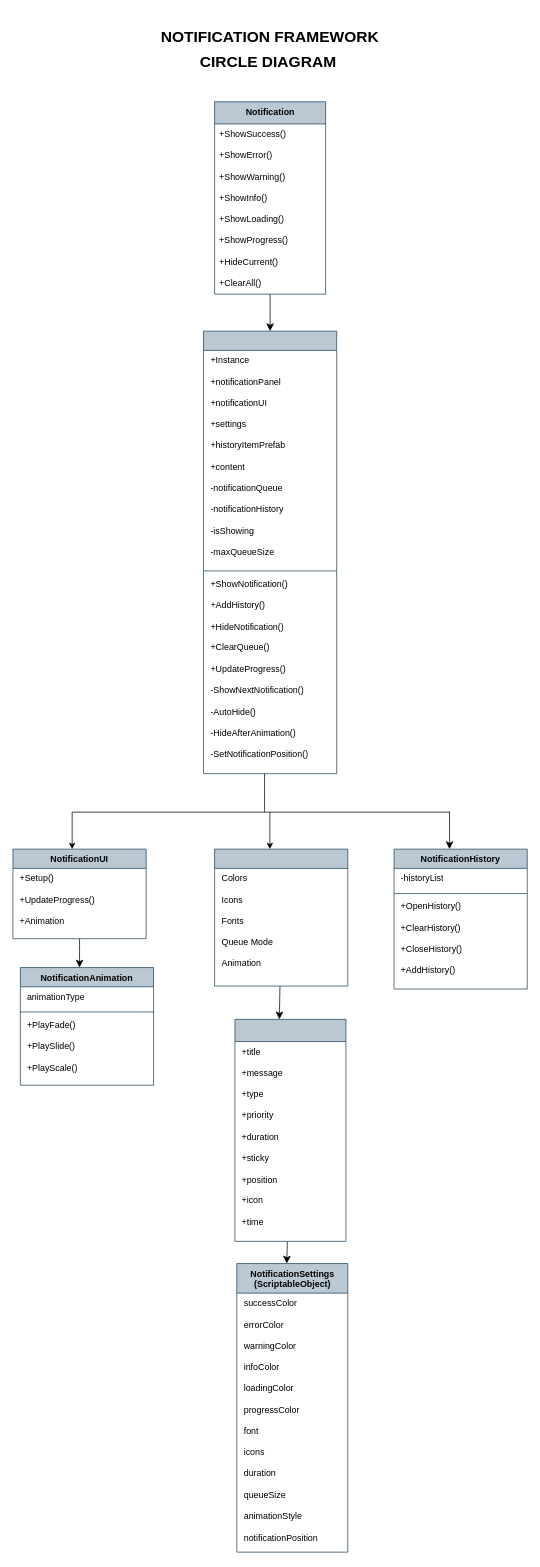
Image size: 540x1567. Some labels were removed from this diagram. Here are the shapes that lost their labels. From the top down, the box of each, then its label:
(203, 330, 337, 774): NotificationManager
(214, 848, 348, 986): NotificatioSettings
(234, 1019, 346, 1241): NotificationData
